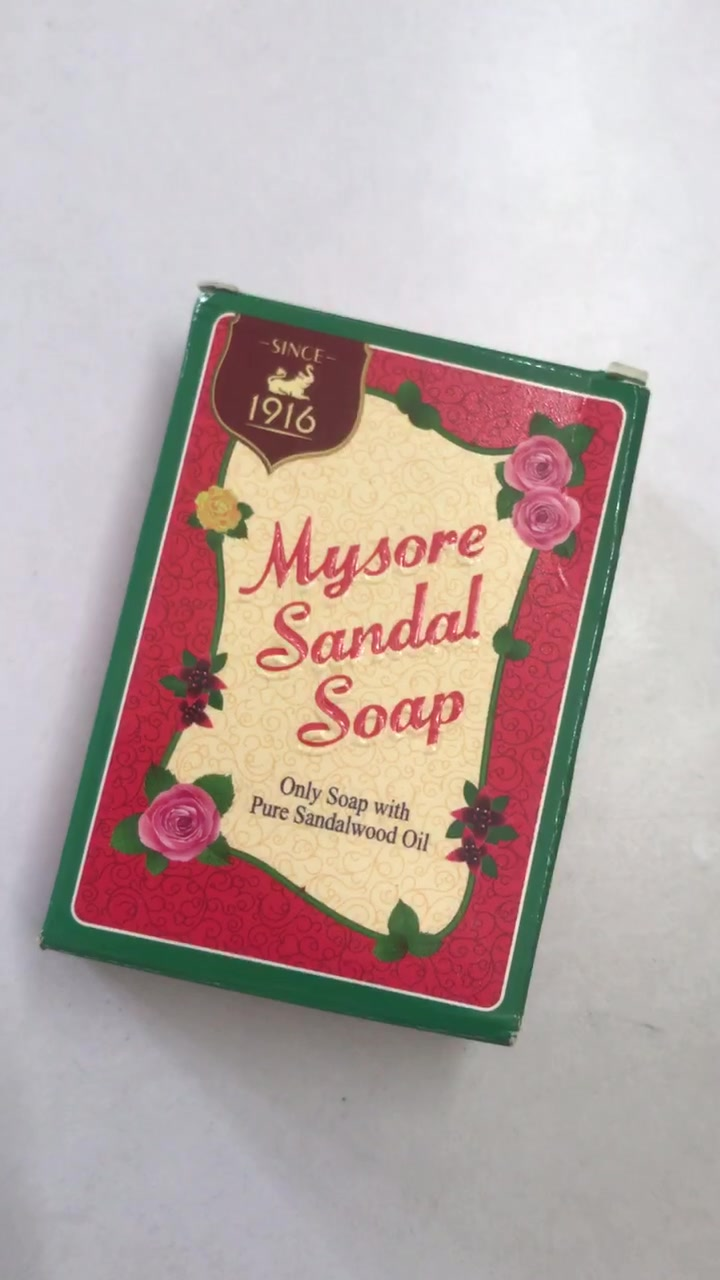mysore sandal soap: (41, 292, 648, 1038)
